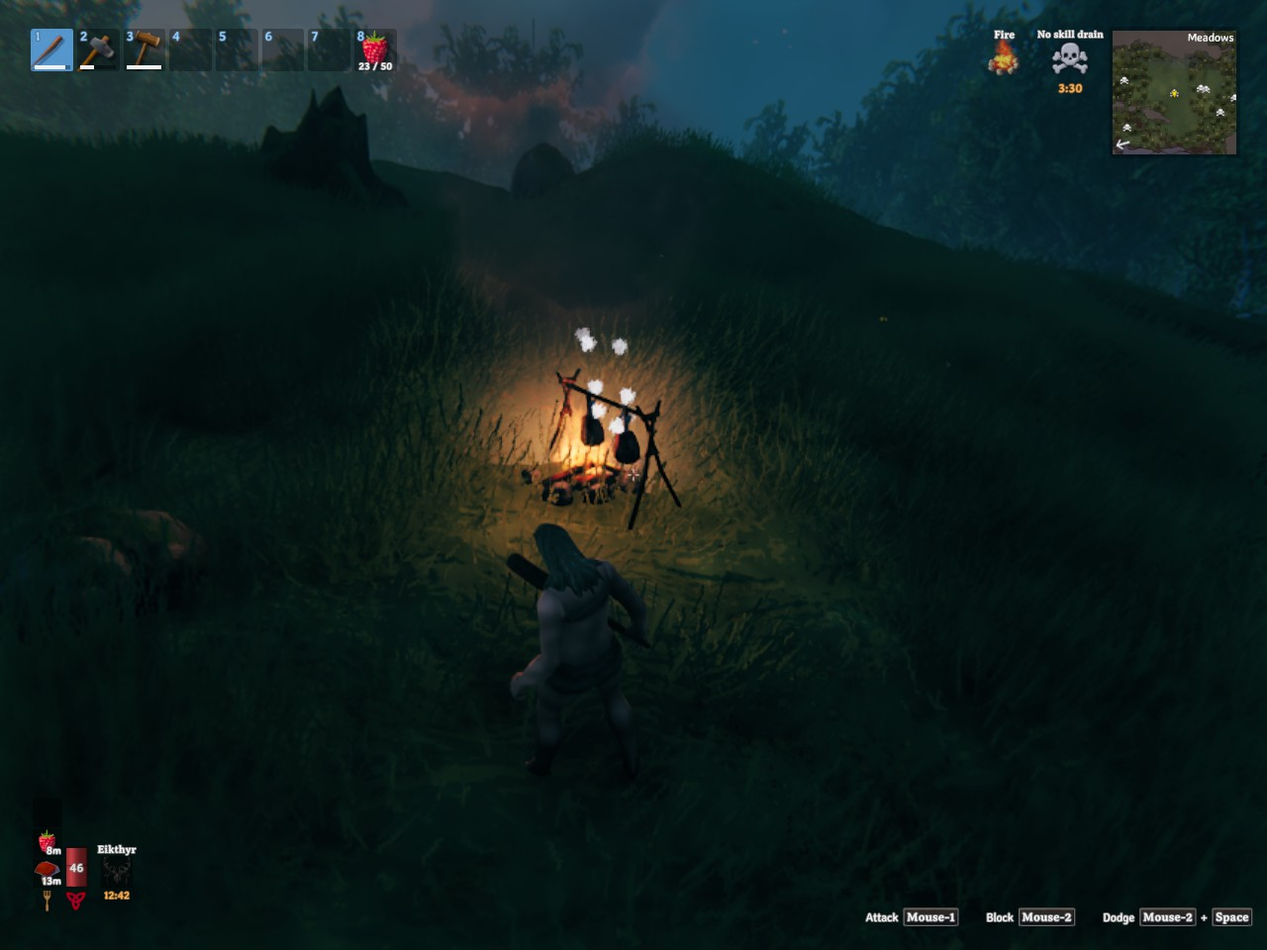Club: (507, 553, 547, 589), (608, 618, 628, 632)
Cook Station: (542, 374, 664, 469)
Food Indicator: (36, 830, 63, 897)
Health Bar: (67, 845, 92, 892)
Hotbar: (28, 28, 402, 73)
Status Indicator: (984, 24, 1105, 104)
